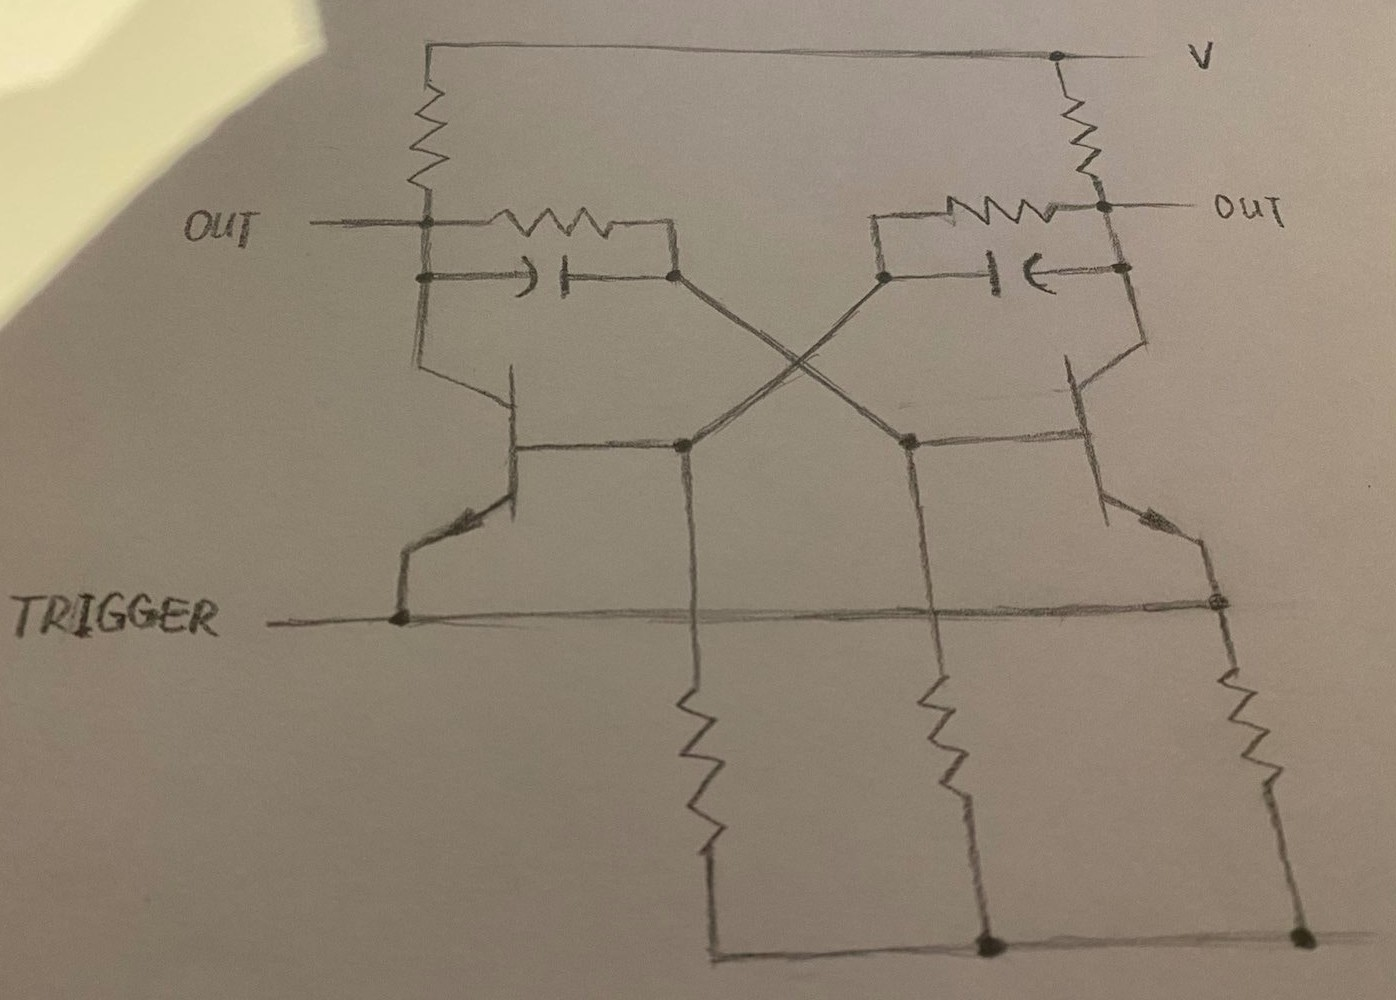capacitor.unpolarized: (971, 242, 1068, 305), (504, 248, 594, 305)
crossover: (766, 335, 833, 389), (666, 593, 725, 644), (910, 585, 964, 639)
junction: (953, 916, 1024, 978), (1260, 902, 1323, 969), (687, 926, 753, 983), (1193, 576, 1249, 626), (877, 418, 932, 465), (862, 253, 912, 298), (403, 253, 450, 298), (374, 592, 421, 636), (664, 423, 711, 465), (1102, 246, 1144, 287), (653, 256, 694, 292), (410, 205, 446, 239), (1042, 37, 1077, 71), (1088, 188, 1121, 223), (853, 199, 886, 233), (656, 208, 687, 240), (414, 34, 449, 60)
resistor: (664, 680, 738, 866), (910, 670, 986, 819), (1214, 661, 1293, 794), (929, 188, 1068, 233), (407, 77, 457, 197), (478, 203, 624, 241), (1058, 89, 1107, 181)
terminal: (1333, 918, 1395, 959), (243, 605, 313, 641), (288, 203, 343, 244), (1112, 39, 1173, 73), (1159, 189, 1208, 216)
text: (3, 584, 225, 650), (179, 197, 261, 258), (1210, 184, 1296, 233), (1184, 32, 1228, 75)
transistor: (1055, 334, 1222, 548), (392, 341, 530, 562)
